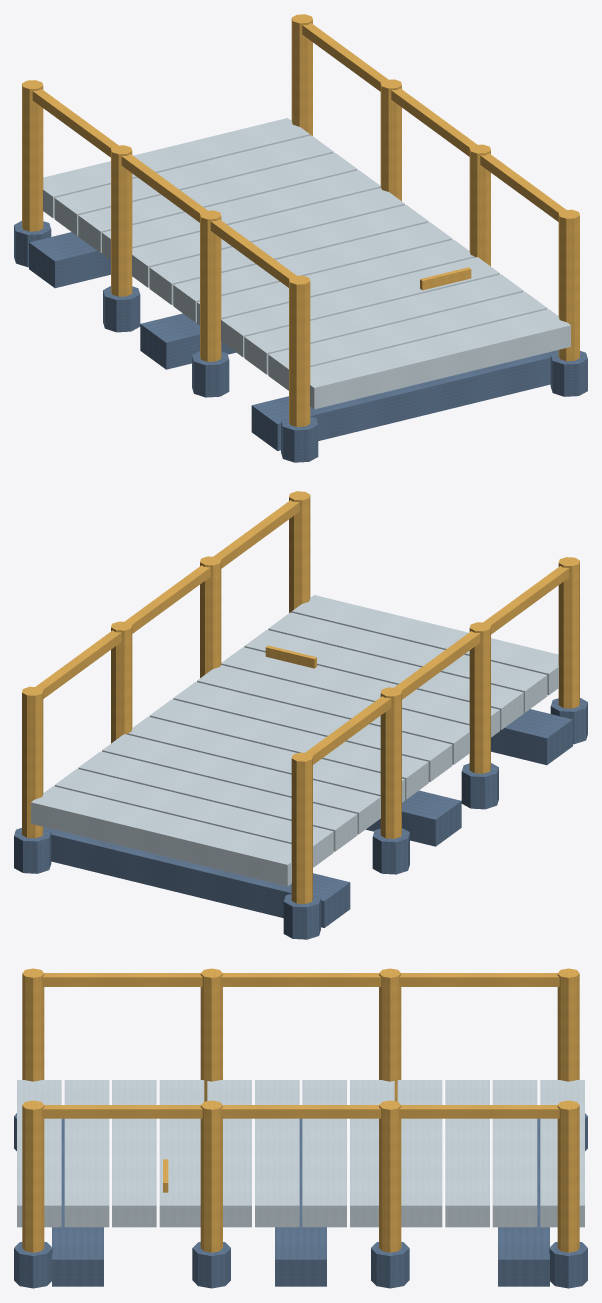
The model's file is atlas100-s058-a01.glb.
3 views of the same model, one above another, from view 1: azimuth 30°, elevation 25°; view 2: azimuth 150°, elevation 25°; view 3: azimuth 270°, elevation 25° (orthographic).
Visible parts, largest first — view 1: atlas100-s058-a01:part-011, atlas100-s058-a01:part-032, atlas100-s058-a01:part-009, atlas100-s058-a01:part-010, atlas100-s058-a01:part-001, atlas100-s058-a01:part-005, atlas100-s058-a01:part-002, atlas100-s058-a01:part-006, atlas100-s058-a01:part-004, atlas100-s058-a01:part-008, atlas100-s058-a01:part-000, atlas100-s058-a01:part-003 (+19 smaller); view 2: atlas100-s058-a01:part-000, atlas100-s058-a01:part-030, atlas100-s058-a01:part-002, atlas100-s058-a01:part-003, atlas100-s058-a01:part-001, atlas100-s058-a01:part-010, atlas100-s058-a01:part-006, atlas100-s058-a01:part-005, atlas100-s058-a01:part-007, atlas100-s058-a01:part-011, atlas100-s058-a01:part-004, atlas100-s058-a01:part-009 (+19 smaller); view 3: atlas100-s058-a01:part-020, atlas100-s058-a01:part-029, atlas100-s058-a01:part-001, atlas100-s058-a01:part-010, atlas100-s058-a01:part-002, atlas100-s058-a01:part-005, atlas100-s058-a01:part-006, atlas100-s058-a01:part-009, atlas100-s058-a01:part-003, atlas100-s058-a01:part-008, atlas100-s058-a01:part-004, atlas100-s058-a01:part-007 (+17 smaller).
Part boxes in pixels (left/top/right/bottom): atlas100-s058-a01:part-011: left=310, top=309, right=570, bottom=409; atlas100-s058-a01:part-032: left=251, top=350, right=558, bottom=450; atlas100-s058-a01:part-009: left=244, top=274, right=523, bottom=374; atlas100-s058-a01:part-010: left=268, top=291, right=547, bottom=390; atlas100-s058-a01:part-001: left=54, top=135, right=333, bottom=235; atlas100-s058-a01:part-005: left=149, top=205, right=428, bottom=304; atlas100-s058-a01:part-002: left=78, top=153, right=357, bottom=252; atlas100-s058-a01:part-006: left=173, top=222, right=452, bottom=322; atlas100-s058-a01:part-004: left=132, top=188, right=404, bottom=287; atlas100-s058-a01:part-008: left=221, top=257, right=499, bottom=357; atlas100-s058-a01:part-000: left=43, top=118, right=309, bottom=218; atlas100-s058-a01:part-003: left=102, top=170, right=380, bottom=260; atlas100-s058-a01:part-000: left=31, top=786, right=291, bottom=886; atlas100-s058-a01:part-030: left=43, top=827, right=350, bottom=927; atlas100-s058-a01:part-002: left=78, top=751, right=357, bottom=851; atlas100-s058-a01:part-003: left=102, top=734, right=380, bottom=834; atlas100-s058-a01:part-001: left=54, top=768, right=333, bottom=867; atlas100-s058-a01:part-010: left=268, top=612, right=547, bottom=712; atlas100-s058-a01:part-006: left=173, top=682, right=452, bottom=781; atlas100-s058-a01:part-005: left=149, top=699, right=428, bottom=799; atlas100-s058-a01:part-007: left=197, top=665, right=469, bottom=764; atlas100-s058-a01:part-011: left=292, top=595, right=558, bottom=695; atlas100-s058-a01:part-004: left=127, top=716, right=404, bottom=802; atlas100-s058-a01:part-009: left=244, top=630, right=523, bottom=729; atlas100-s058-a01:part-020: left=42, top=973, right=559, bottom=986; atlas100-s058-a01:part-029: left=42, top=1105, right=559, bottom=1118; atlas100-s058-a01:part-001: left=492, top=1080, right=537, bottom=1227; atlas100-s058-a01:part-010: left=64, top=1080, right=109, bottom=1227; atlas100-s058-a01:part-002: left=445, top=1080, right=489, bottom=1227; atlas100-s058-a01:part-005: left=302, top=1080, right=346, bottom=1227; atlas100-s058-a01:part-006: left=255, top=1080, right=299, bottom=1227; atlas100-s058-a01:part-009: left=112, top=1080, right=156, bottom=1227; atlas100-s058-a01:part-003: left=397, top=1080, right=442, bottom=1227; atlas100-s058-a01:part-008: left=159, top=1080, right=204, bottom=1227; atlas100-s058-a01:part-004: left=350, top=1080, right=394, bottom=1227; atlas100-s058-a01:part-007: left=207, top=1080, right=251, bottom=1227.
Size of the model in its own units: 2.36 by 1.3 by 3.86.
4 materials, 4 textured.
